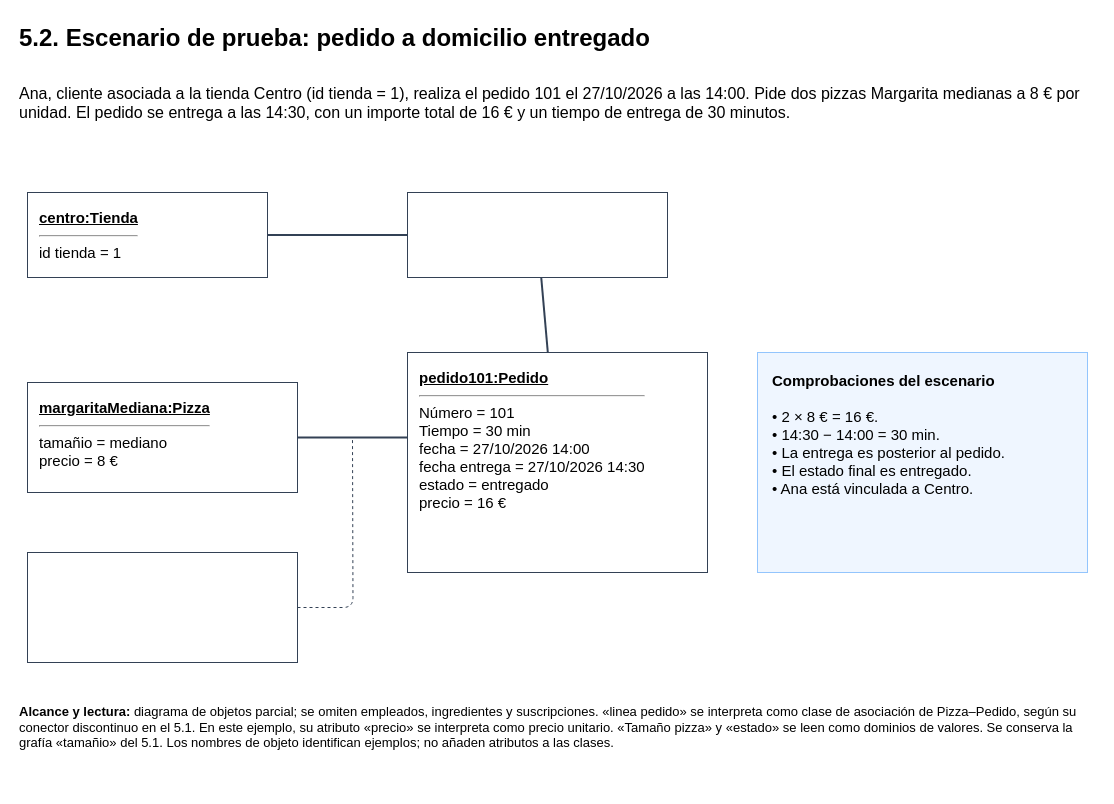
Some shapes in this 1114 by 804 pixel diagram are drawn without their labels. Here are the shapes that lost their labels. From the top down, the box of each, then its label:
(406, 192, 668, 278): ana:Cliente
(26, 552, 298, 662): linea1:linea pedido cantidad = 2 precio = 8 €
